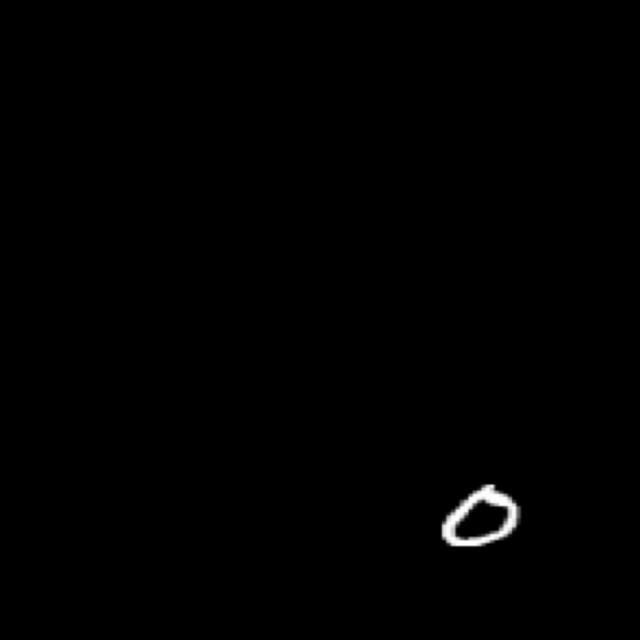zero -0-: (422, 467, 533, 564)
